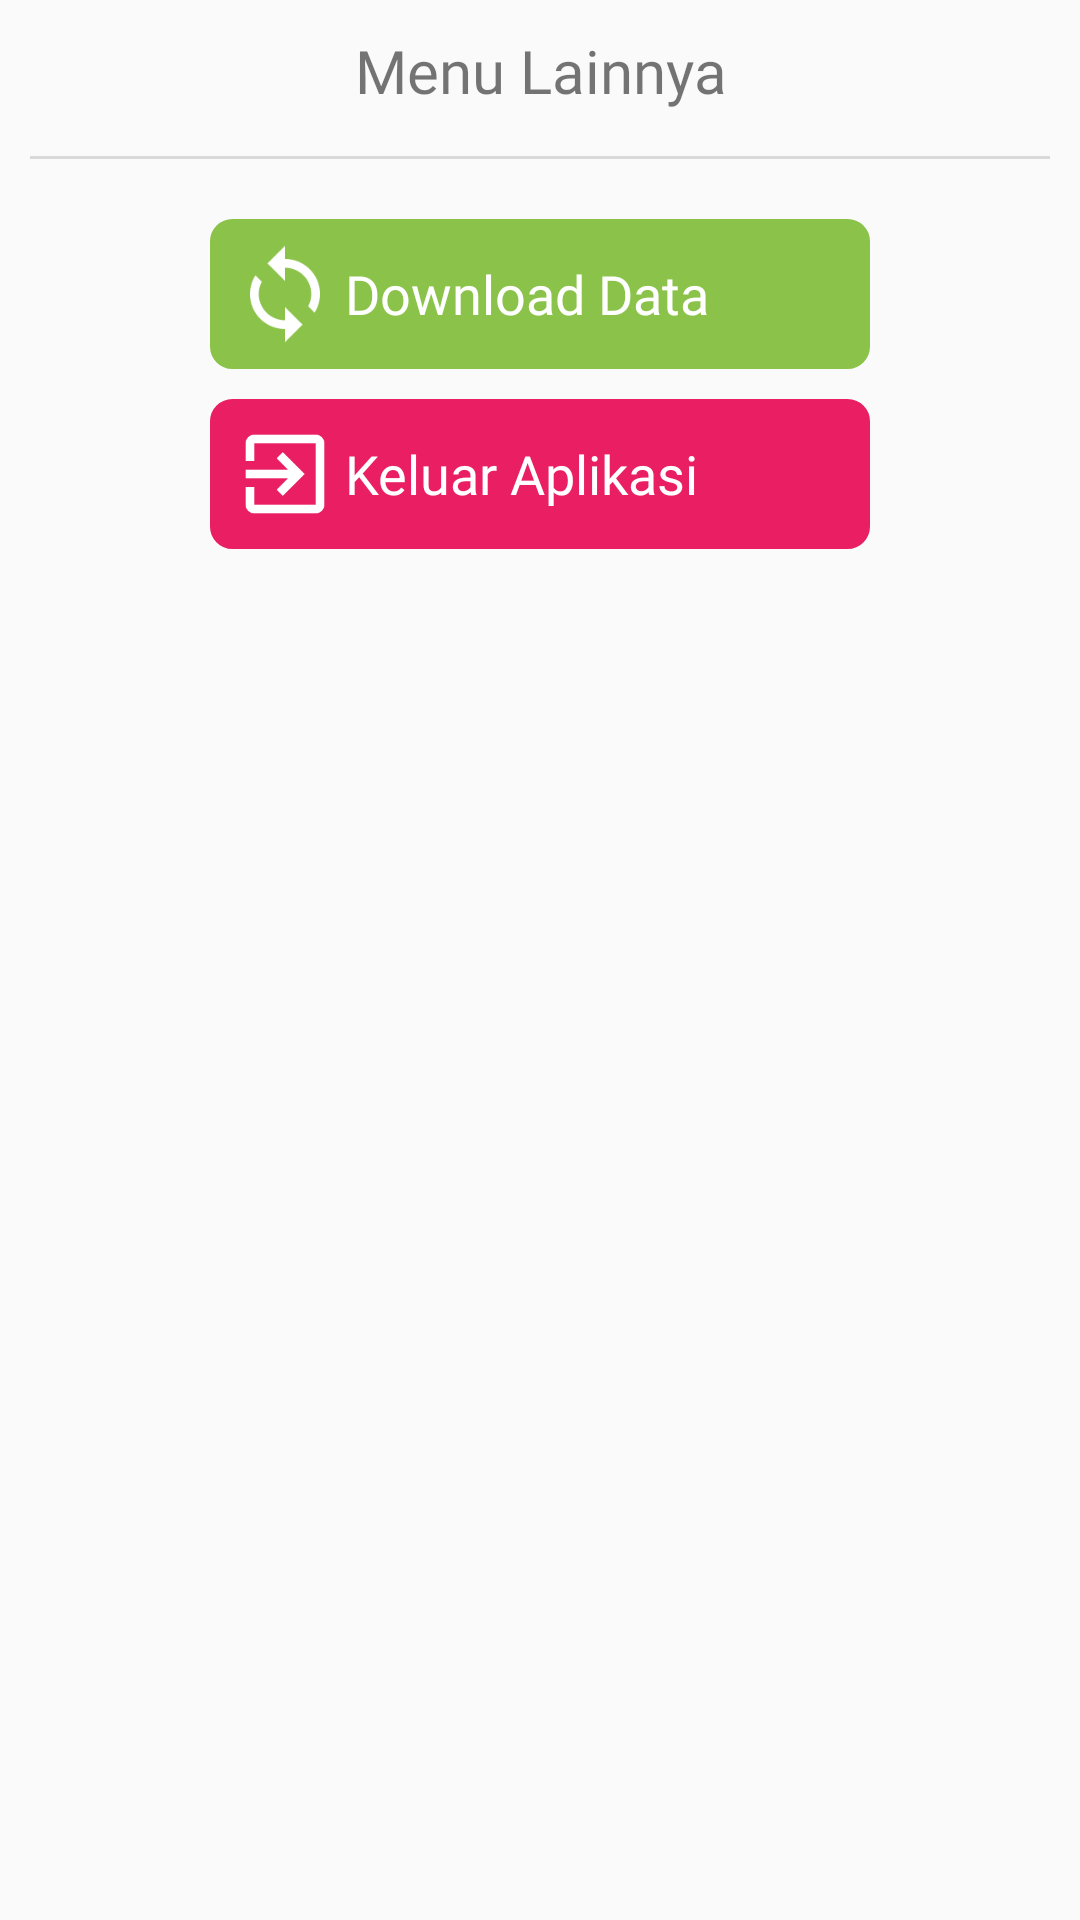

Icon bounding boxes for this 1080x1920 phone screenshot, format (x1, y1, x2, y2):
exit: (245, 434, 325, 514)
sinkron: (250, 246, 320, 342)
